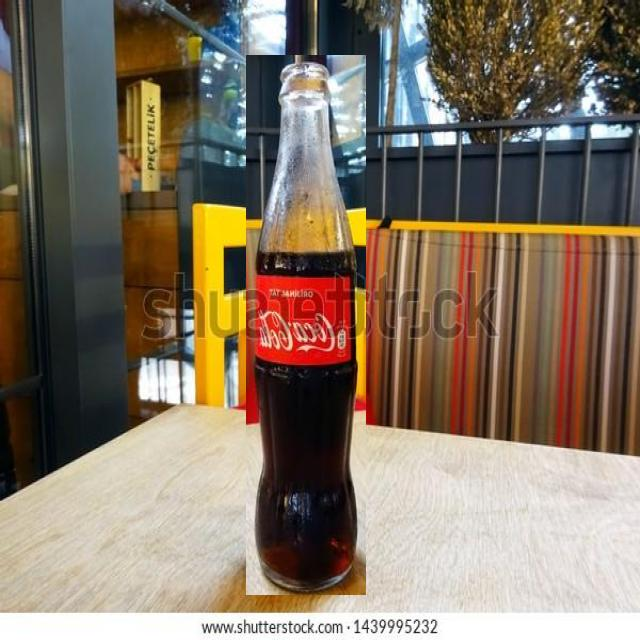coca-cola: (246, 55, 366, 595)
